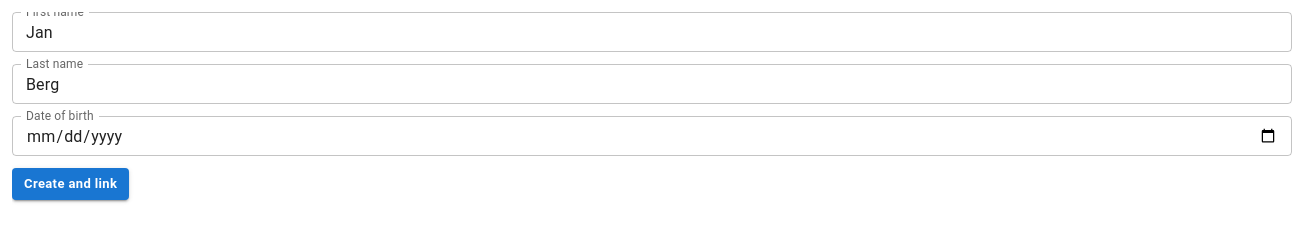
it: PlayerQuickForm › requires a date of birth and does not submit without it
The width and height of the screenshot is (1304, 251).
Click the button "Create and link" at [71, 184], box 12,168 -> 129,200
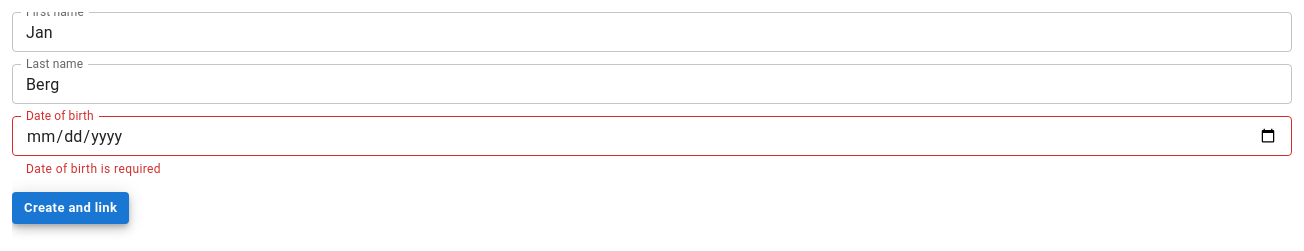
Expected: the text "Date of birth is required" is shown, 26,162 -> 161,176
